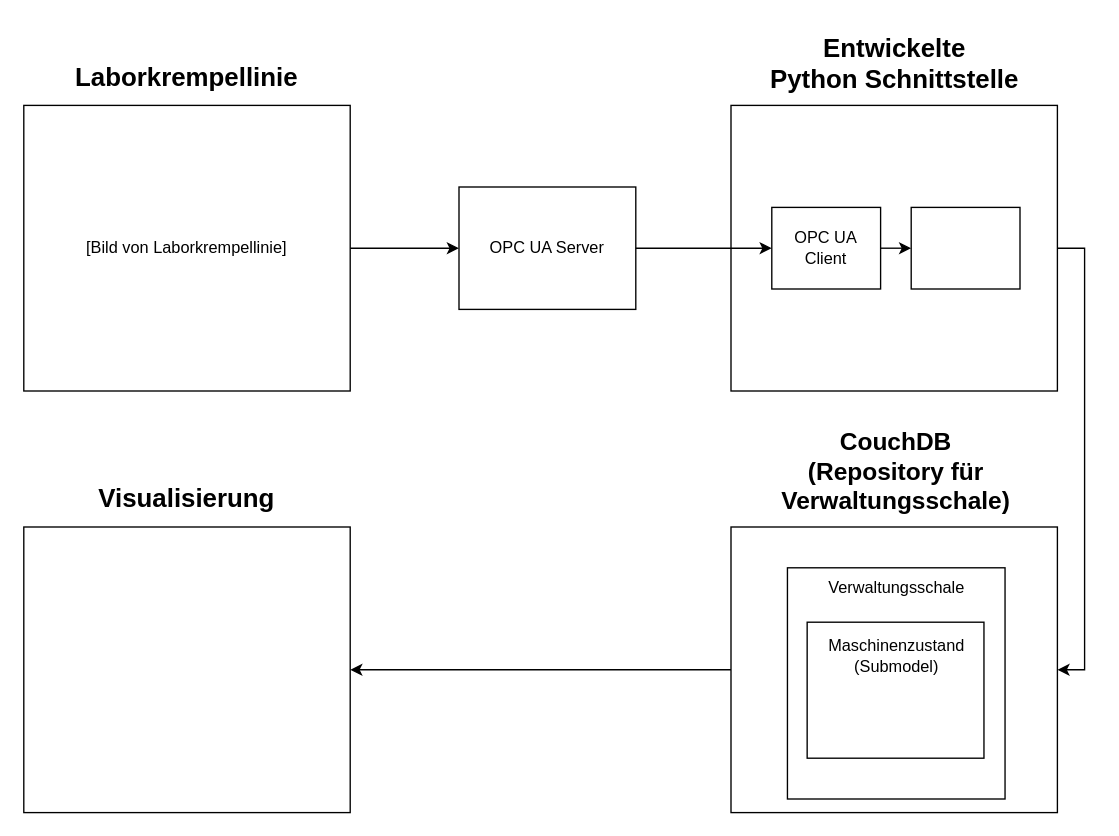
Image size: 1119x836. Some labels were removed from this diagram. Here are the shapes that lost their labels. From the top down, the centre of each, then its label:
At (x=965, y=247): "BaSyx Python SDK".
At (x=186, y=669): "[Bild von Grafana]".
